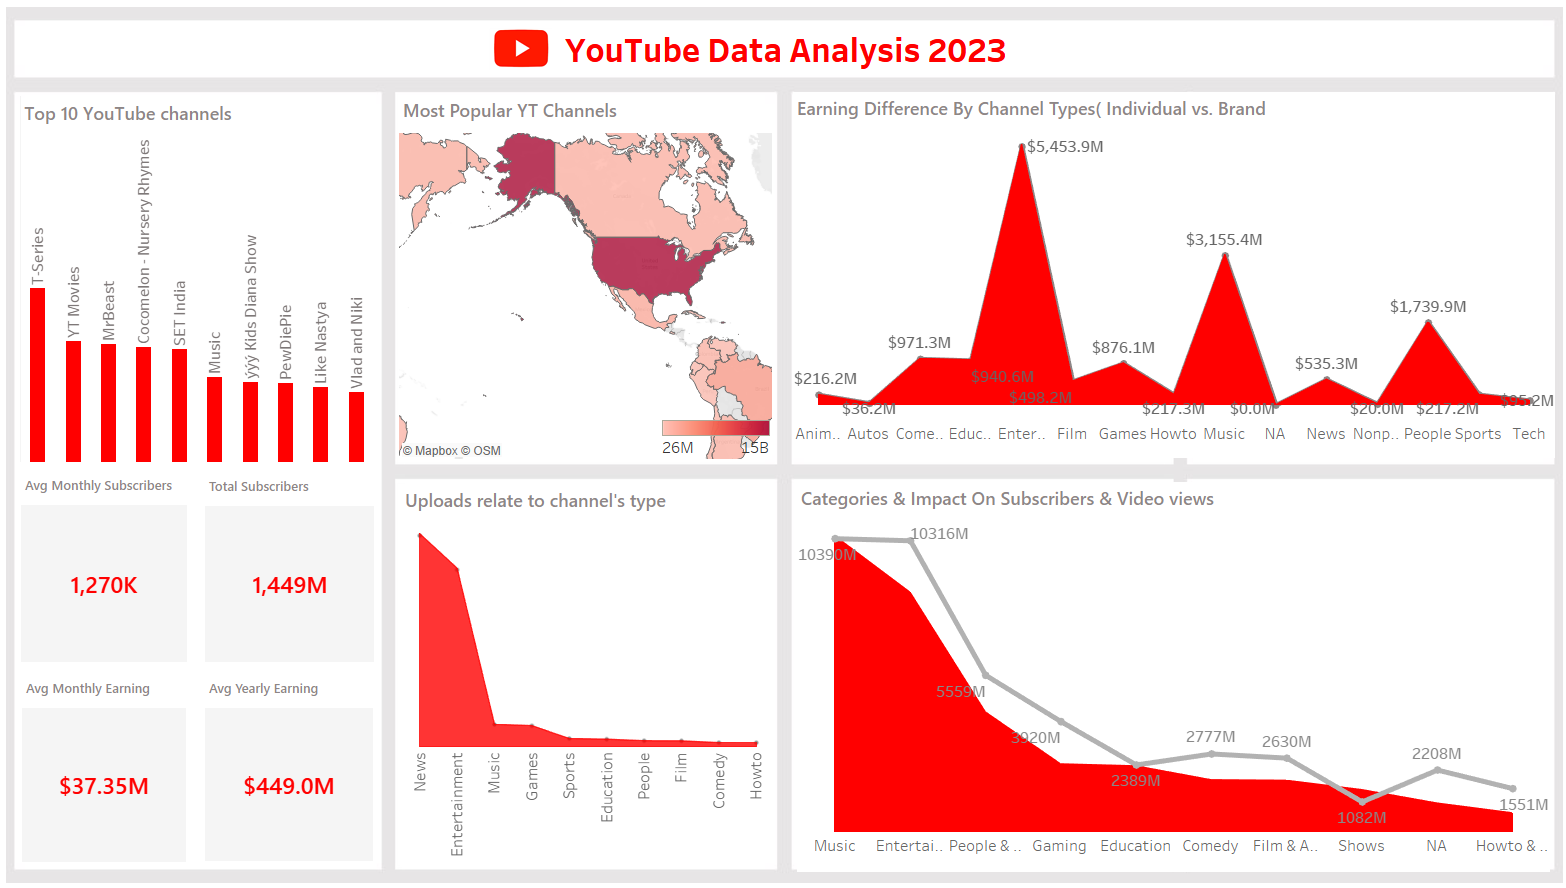

What the dashboard file says about the page in this screenshot:
{"tool":"tableau","page":{"name":"YT analysis","canvas":[1600,900],"ordinal":0},"visuals":[{"type":"image","param":"D:/Github/Global YouTube Statistics/image/Slide1.JPG","box":[8,8,1584,884]},{"type":"text","box":[561,25,480,57]},{"type":"image","param":"C:/Users/POOJA/OneDrive/Pictures/Screenshots/Screenshot 2023-11-08 022613.png","box":[504,31,63,46]},{"type":"worksheet","title":"How do earnings vary between different channel types (individual vs. brand)","mark":"Area","rows":["Calculation_2178897813487419396","Calculation_2178897813487419396"],"cols":["channel_type"],"box":[808,97,762,366]},{"type":"worksheet","title":"Countries have the most popular YouTube channels","mark":"Multipolygon","box":[414,99,373,365]},{"type":"worksheet","title":"Top 10 YouTube channels","mark":"Bar","rows":["subscribers"],"cols":["Youtuber"],"box":[35,101,355,366]},{"type":"text","box":[36,103,354,30]},{"type":"legend","title":"Countries have the most popular YouTube channels","param":"[federated.1vibbm50qlpuxq1dueqru19y0ccr].[sum:subscribers:qk]","box":[673,421,116,38]},{"type":"worksheet","title":"Avg Monthly Subscribers","mark":"Text","box":[36,477,166,190]},{"type":"worksheet","title":"Total Subscribers","mark":"Automatic","box":[220,478,169,189]},{"type":"worksheet","title":"Most popular categories and impact on subscribers and viedo viwes","mark":"Bar","rows":["Calculation_2178897813526790156","Calculation_2178897813526495243"],"cols":["category"],"box":[812,487,753,390]},{"type":"worksheet","title":"Number of uploads relate to the channel's type (3)","mark":"Area","rows":["uploads","uploads"],"cols":["channel_type"],"box":[416,489,374,383]},{"type":"worksheet","title":"Avg Monthly Earning","mark":"Automatic","box":[37,680,164,187]},{"type":"worksheet","title":"Avg Yearly Earning ","mark":"Automatic","box":[220,680,168,186]}]}

Visuals, with their boxes in screenshot pixels (x1, y1, x2, y2), scaled from the page's 1600x900 canvas onto the 1566x888 screenshot:
image: 8, 8, 1558, 880
text: 549, 25, 1019, 81
image: 493, 31, 555, 76
"How do earnings vary between different channel types (individual vs. brand)" worksheet (Area marks): 791, 96, 1537, 457
"Countries have the most popular YouTube channels" worksheet (Multipolygon marks): 405, 98, 770, 458
"Top 10 YouTube channels" worksheet (Bar marks): 34, 100, 382, 461
text: 35, 102, 382, 131
"Countries have the most popular YouTube channels" legend: 659, 415, 772, 453
"Avg Monthly Subscribers" worksheet (Text marks): 35, 471, 198, 658
"Total Subscribers" worksheet: 215, 472, 381, 658
"Most popular categories and impact on subscribers and viedo viwes" worksheet (Bar marks): 795, 481, 1532, 865
"Number of uploads relate to the channel's type (3)" worksheet (Area marks): 407, 482, 773, 860
"Avg Monthly Earning" worksheet: 36, 671, 197, 855
"Avg Yearly Earning " worksheet: 215, 671, 380, 854
